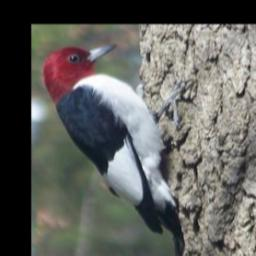Woodpecker: (41, 41, 200, 240)
